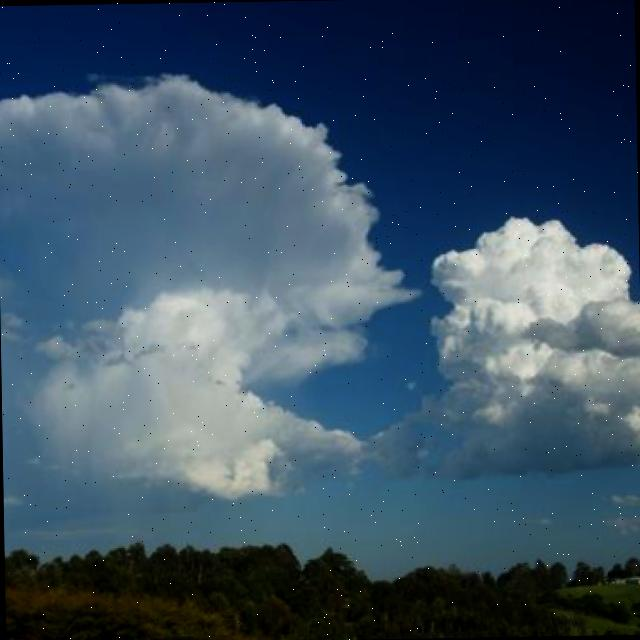Cb: (1, 49, 640, 422)
